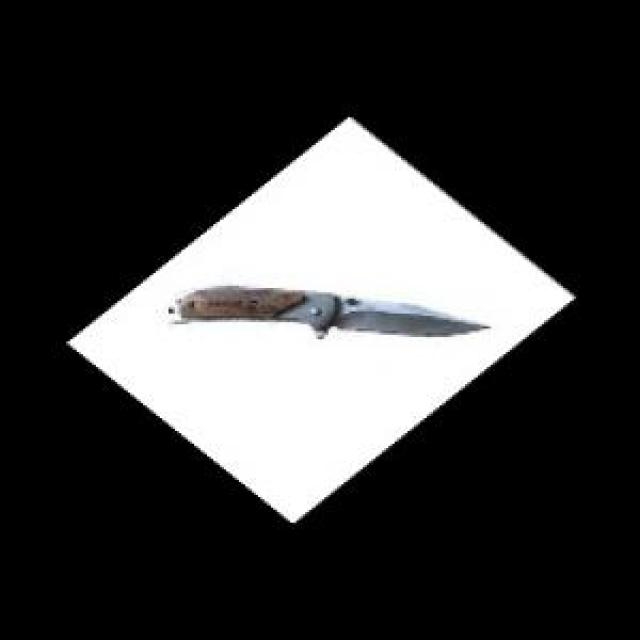knife: (162, 286, 497, 343)
